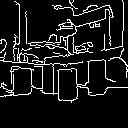cube: (55, 65, 80, 107), (83, 56, 109, 96), (8, 64, 34, 96)
